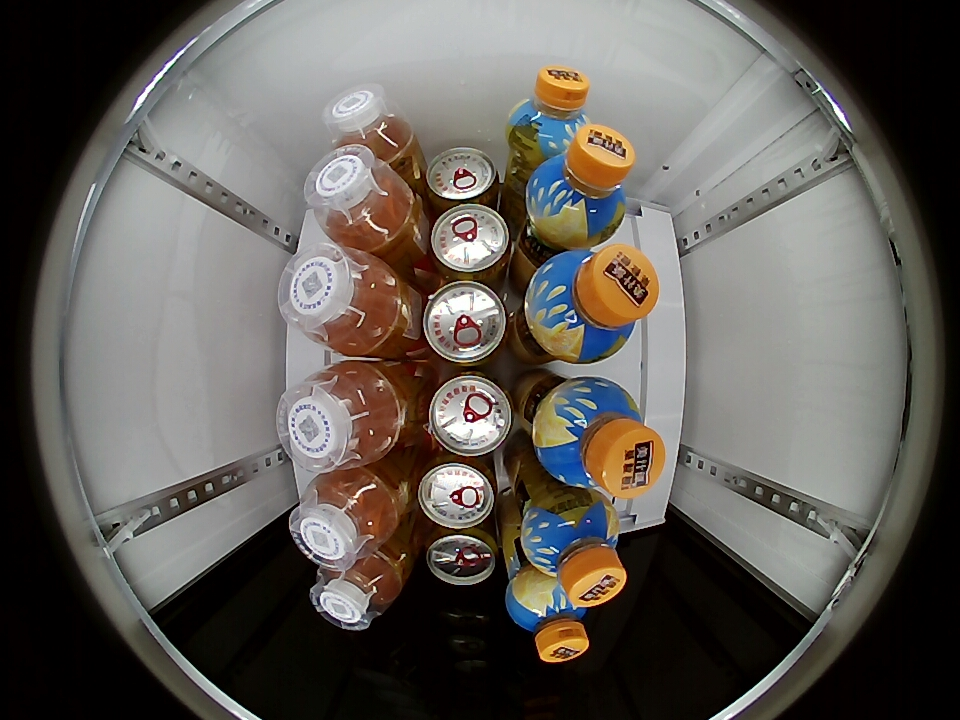dongpeng: (424, 371, 515, 457), (422, 280, 511, 366), (427, 203, 512, 280), (415, 455, 498, 529), (424, 146, 501, 208), (424, 526, 500, 586)
dongpeng-b: (278, 244, 404, 355), (276, 362, 402, 471), (304, 144, 416, 251), (290, 470, 397, 567), (311, 546, 407, 631), (325, 85, 416, 165)
guolicheng: (533, 379, 665, 498), (526, 245, 659, 363), (526, 123, 635, 245), (518, 492, 626, 607), (505, 570, 592, 663), (507, 67, 591, 157)
